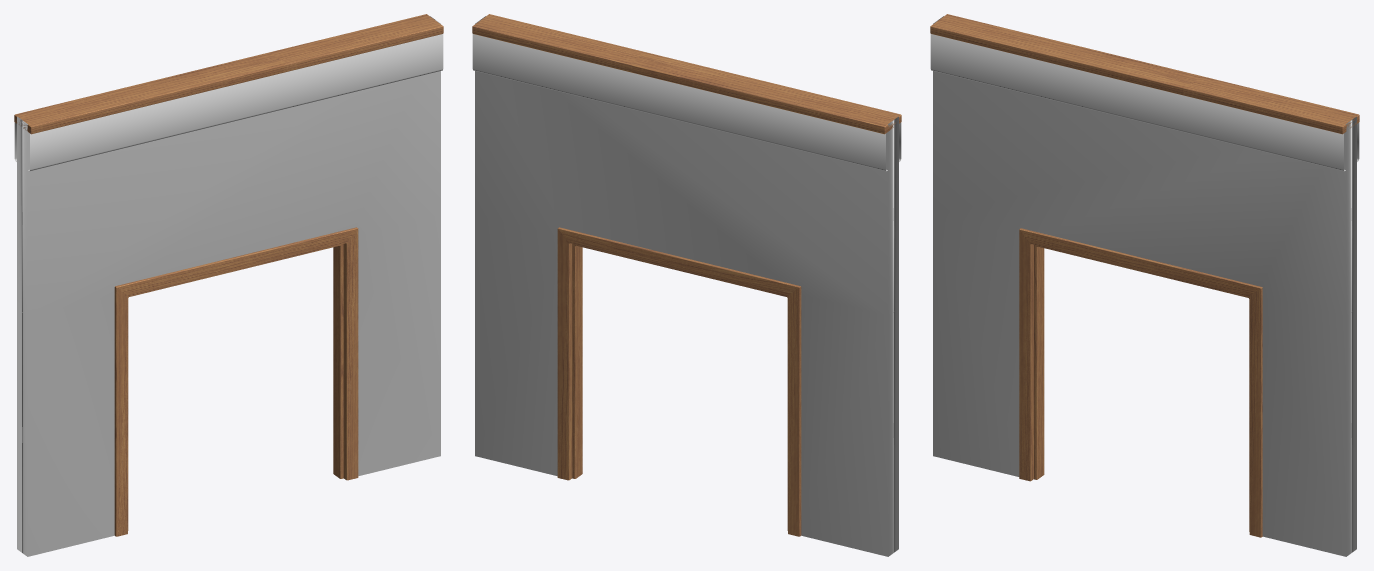
File: SM_wall_door_02.fbx
3 views of the same model, side by side, from view 1: azimuth 30°, elevation 25°; view 2: azimuth 150°, elevation 25°; view 3: azimuth 330°, elevation 25° (orthographic).
Parts seen in each view (by area): view 1: Wall_door_class008; view 2: Wall_door_class008; view 3: Wall_door_class008.
Boxes of the visible parts, box(x1,y1,x2,y2) form: Wall_door_class008: box(14, 14, 443, 556); Wall_door_class008: box(472, 14, 901, 556); Wall_door_class008: box(930, 14, 1359, 556).
Bounding box in the file's own units: 157 × 158 × 11.32.
